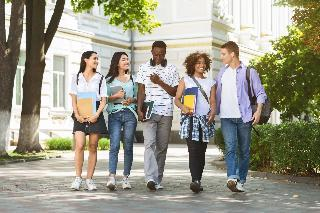person - v3 P: (216, 42, 266, 191), (136, 41, 179, 190), (175, 52, 216, 192), (70, 52, 107, 190), (106, 52, 137, 189)
